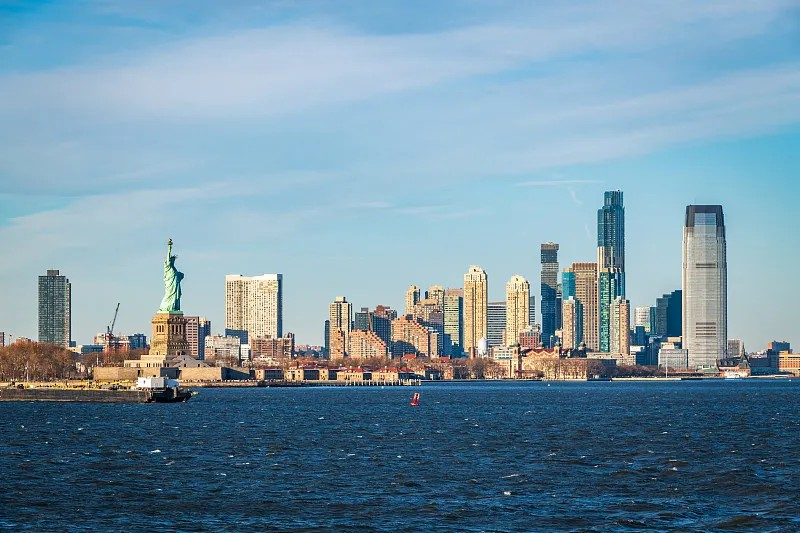SL: (148, 238, 190, 357)
